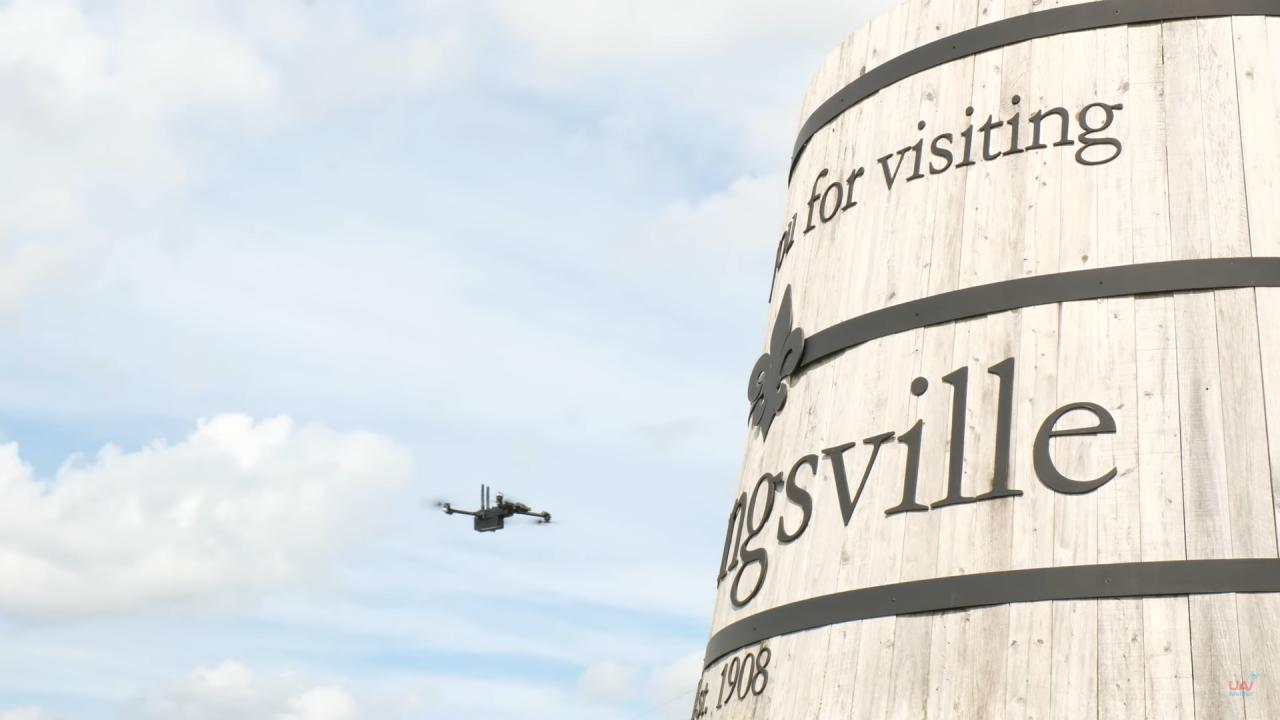Drone: (410, 475, 569, 545)
